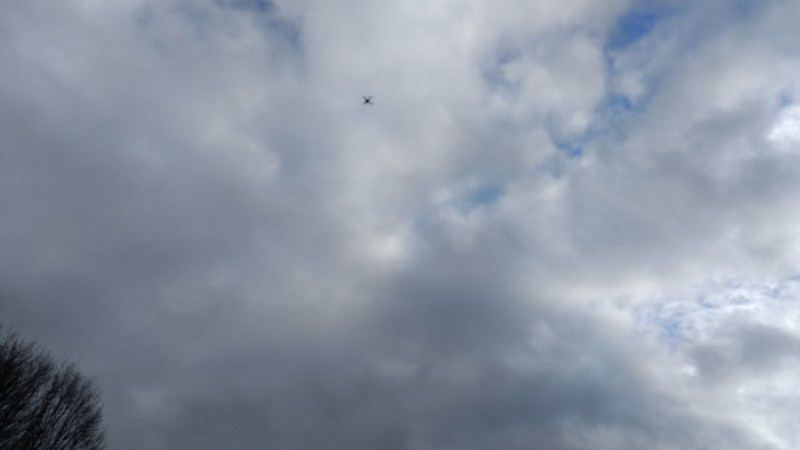drone: (361, 95, 374, 105)
